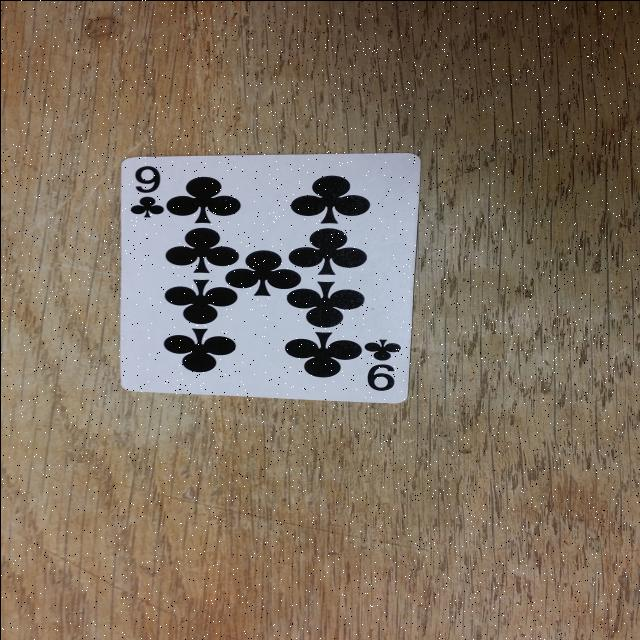9c: (352, 336, 407, 400), (125, 158, 167, 222)
